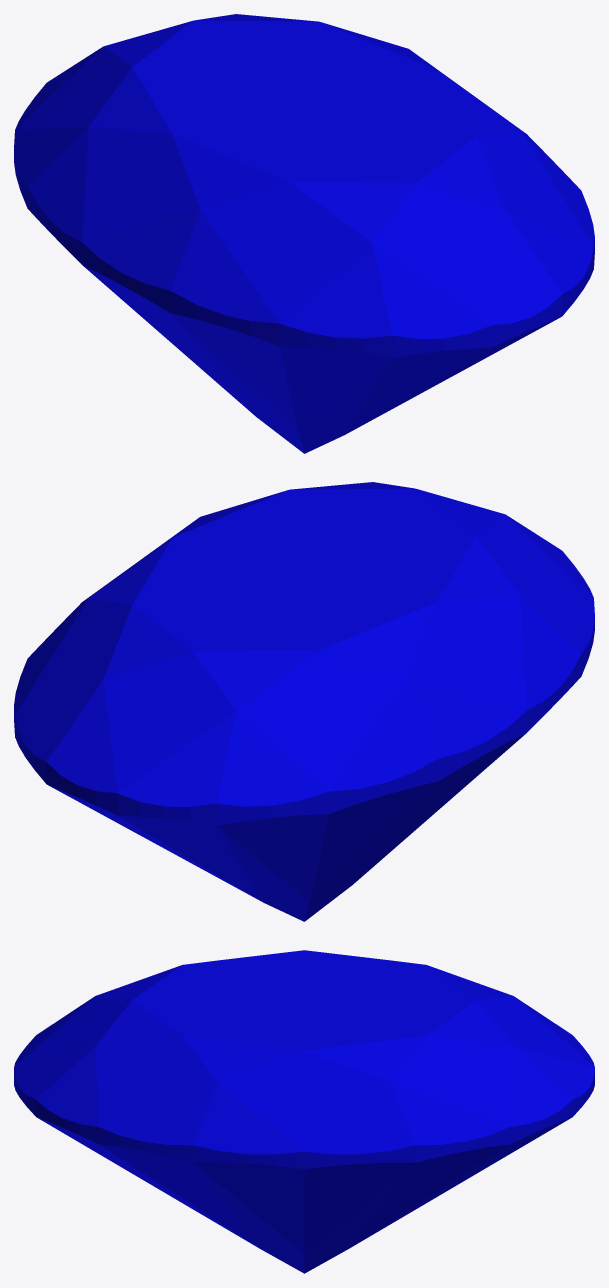
File: Head_No Halo_Oval_0.50ct_Diamond.glb
3 renders of one model, top to bottom at view 1: azimuth 30°, elevation 25°; view 2: azimuth 150°, elevation 25°; view 3: azimuth 270°, elevation 25°, orthographic. The views are drawn at different scales.
Size of the model in its own units: 0.00445 by 0.00337 by 0.00649.
